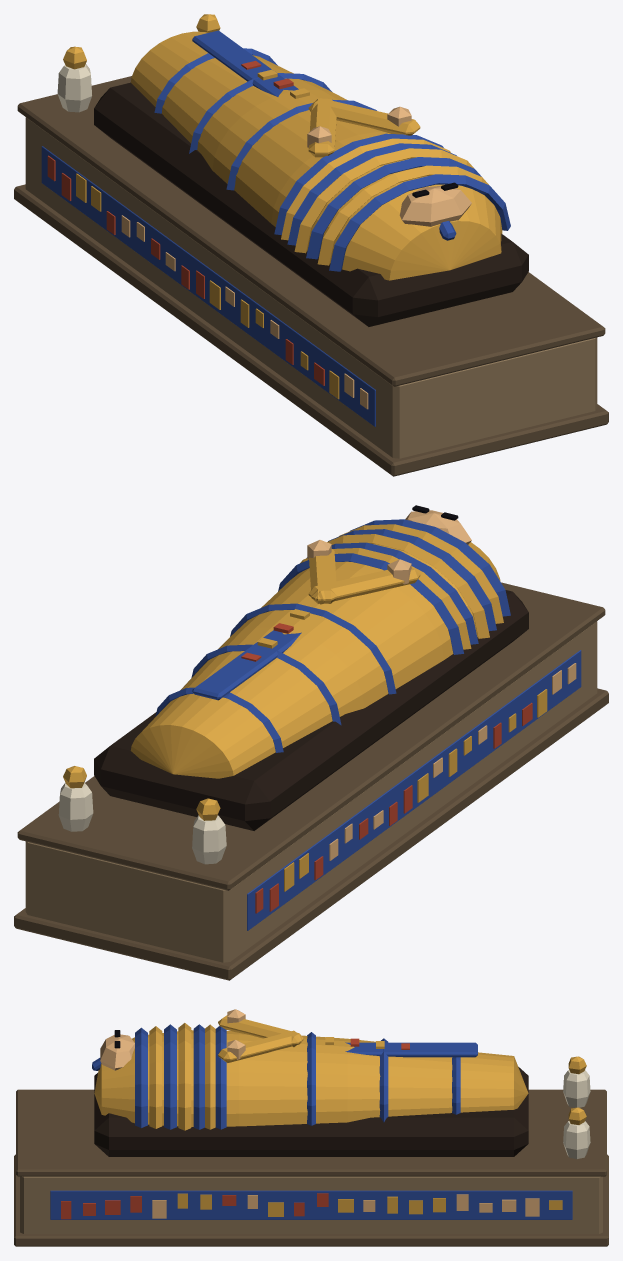
Rendered from sarcofago.glb.
3 renders of one model, top to bottom at view 1: azimuth 30°, elevation 25°; view 2: azimuth 150°, elevation 25°; view 3: azimuth 270°, elevation 25°, orthographic. The views are drawn at different scales.
Visible parts, largest first — view 1: sarcofago; view 2: sarcofago; view 3: sarcofago.
Boxes of the visible parts, x1,y1,x2,y2 form: sarcofago: [14, 14, 608, 476]; sarcofago: [14, 505, 608, 980]; sarcofago: [14, 1009, 608, 1246].
Size of the model in its own units: 0.98 by 0.9964 by 2.96.
